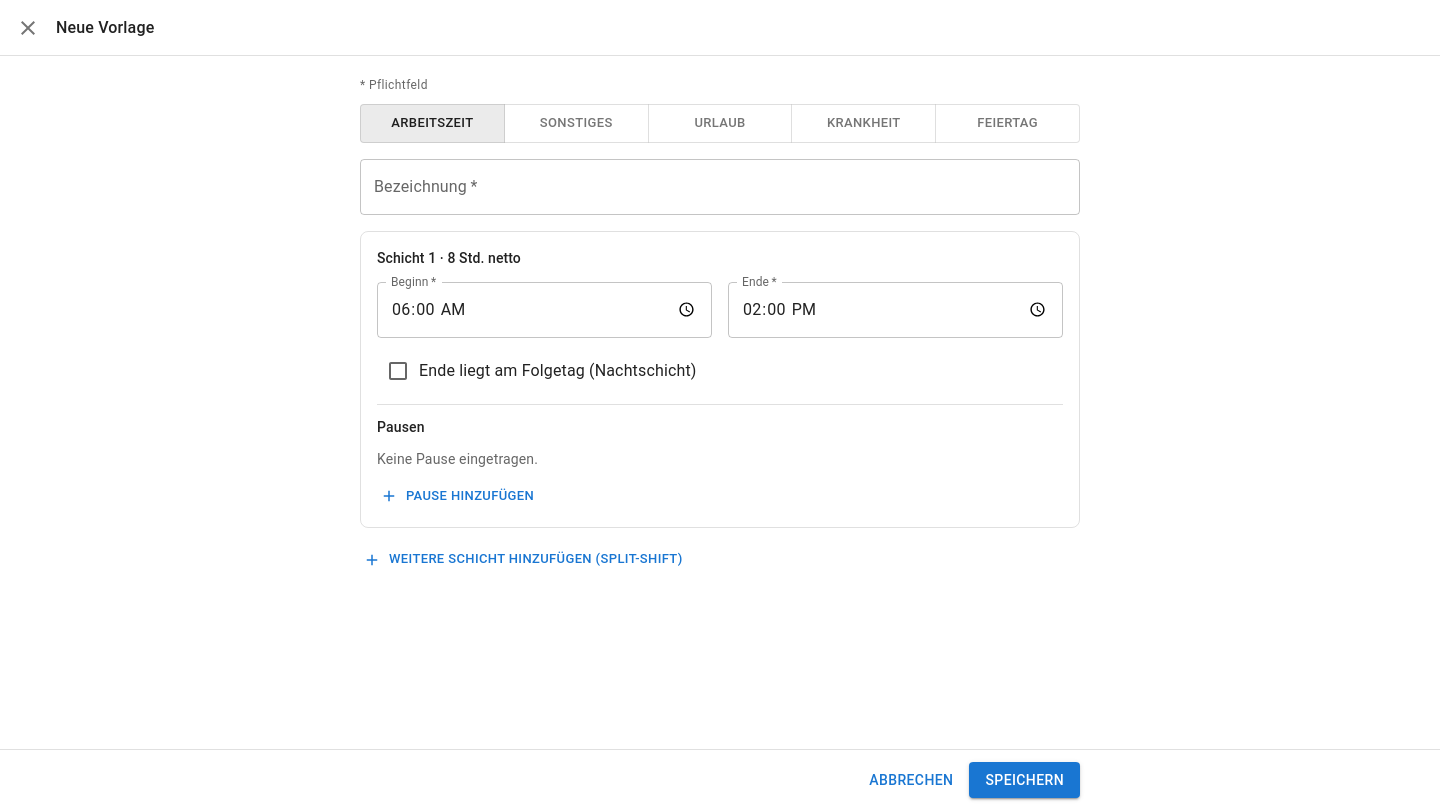
Test: ShiftTemplateDialog › Sonstiges mode › switches to a Stunden field instead of the shift list, keeping the one Bezeichnung field
What coordinates should you click on to do the following:
click the button "Sonstiges"
I would click on:
 (576, 123)
Its box is x1=504 y1=104 x2=649 y2=143.
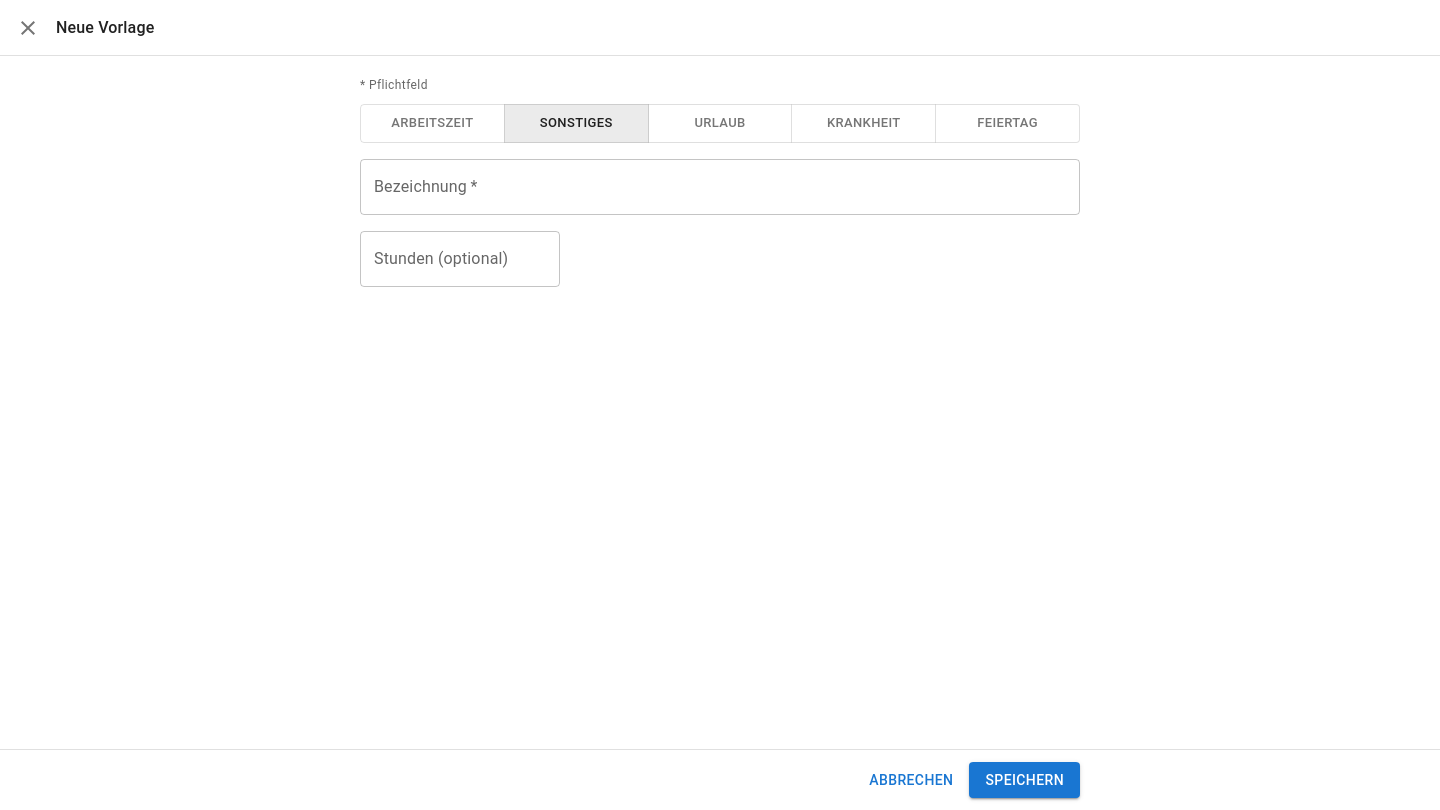
Expected: the field labelled "Bezeichnung" is shown, x1=360 y1=159 x2=1080 y2=215
Expected: the field labelled "Stunden (optional)" is shown, x1=360 y1=231 x2=560 y2=287
